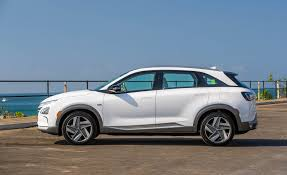car: (34, 63, 257, 145)
